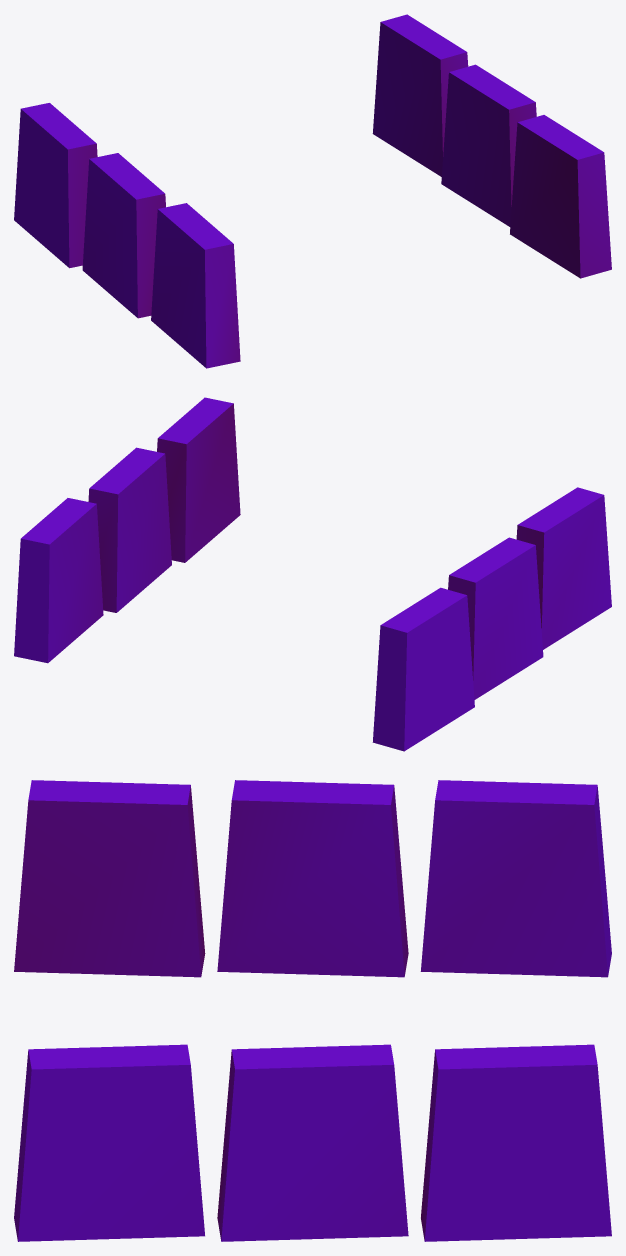
File: module_ablative_plating.fbx
3 views of the same model, one above another, from view 1: azimuth 30°, elevation 25°; view 2: azimuth 150°, elevation 25°; view 3: azimuth 270°, elevation 25° (orthographic). The views are drawn at different scales.
Visible parts, largest first — view 1: module_ablative_plating; view 2: module_ablative_plating; view 3: module_ablative_plating.
Part boxes in pixels (x1,y1,x2,y2): module_ablative_plating: [14, 14, 611, 368]; module_ablative_plating: [14, 397, 611, 751]; module_ablative_plating: [14, 780, 611, 1241].
Size of the model in its own units: 0.4443 by 0.12 by 0.3822.
